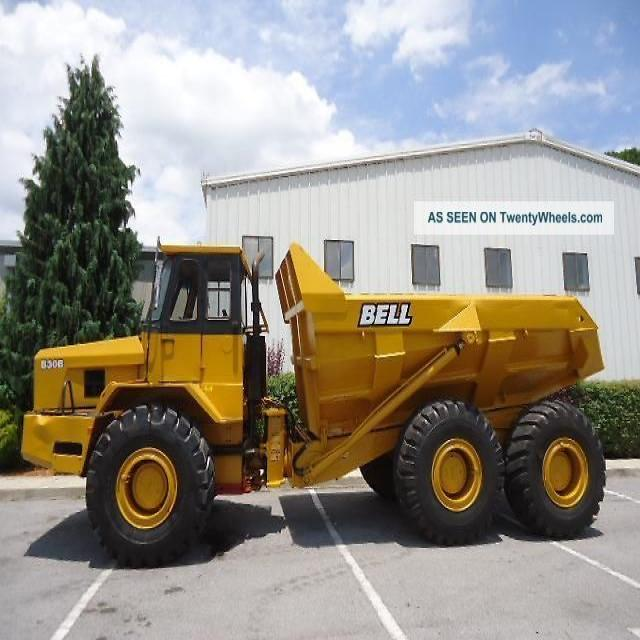dump_truck: (17, 232, 611, 560)
